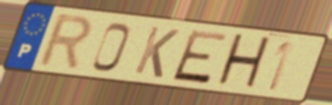0: (91, 22, 133, 73)
1: (268, 40, 295, 92)
E: (168, 29, 231, 87)
H: (213, 31, 274, 93)
K: (131, 24, 182, 80)
R: (34, 12, 96, 74)
